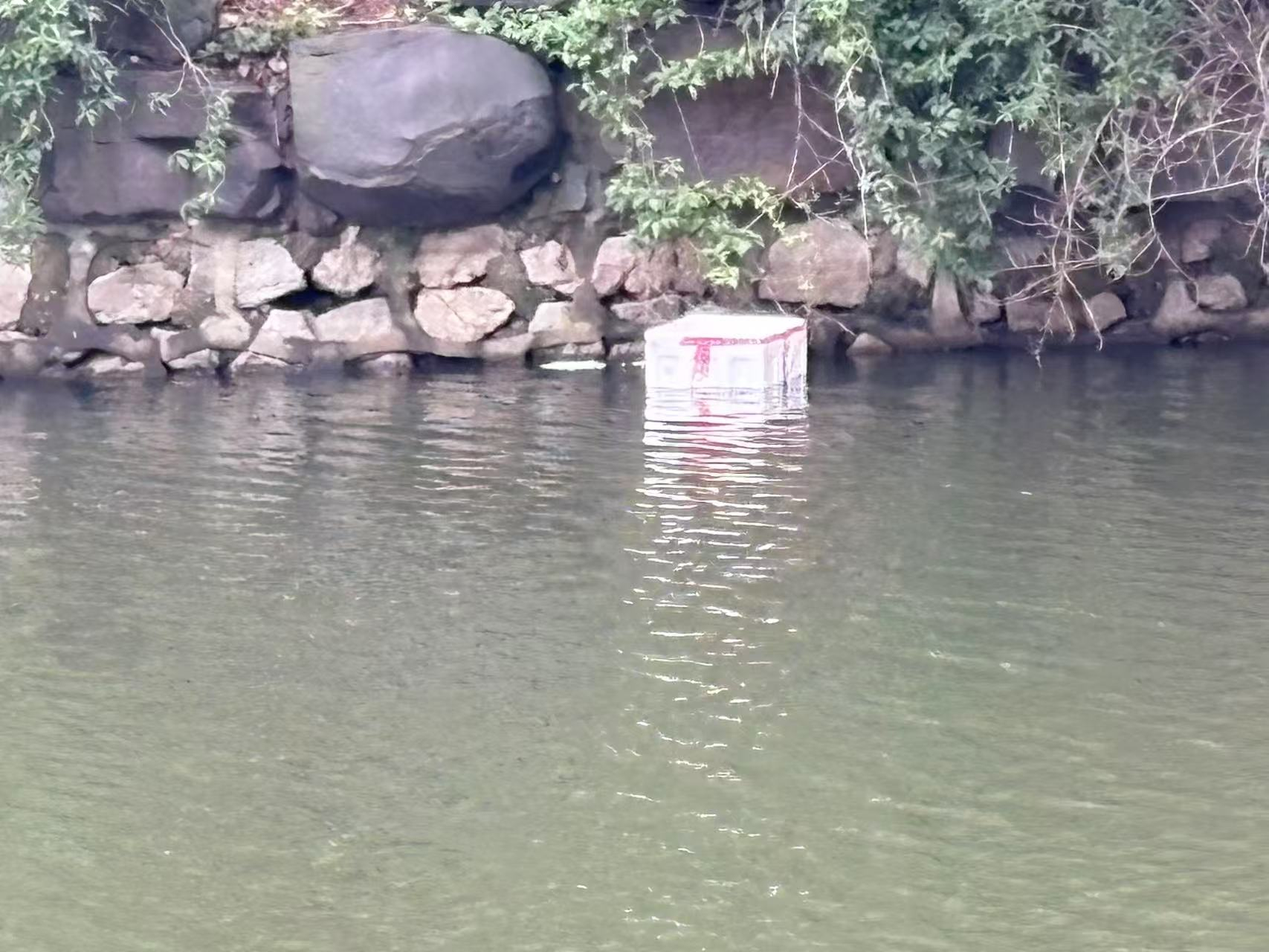Plastic wastes: (636, 303, 816, 405), (540, 354, 605, 371)
